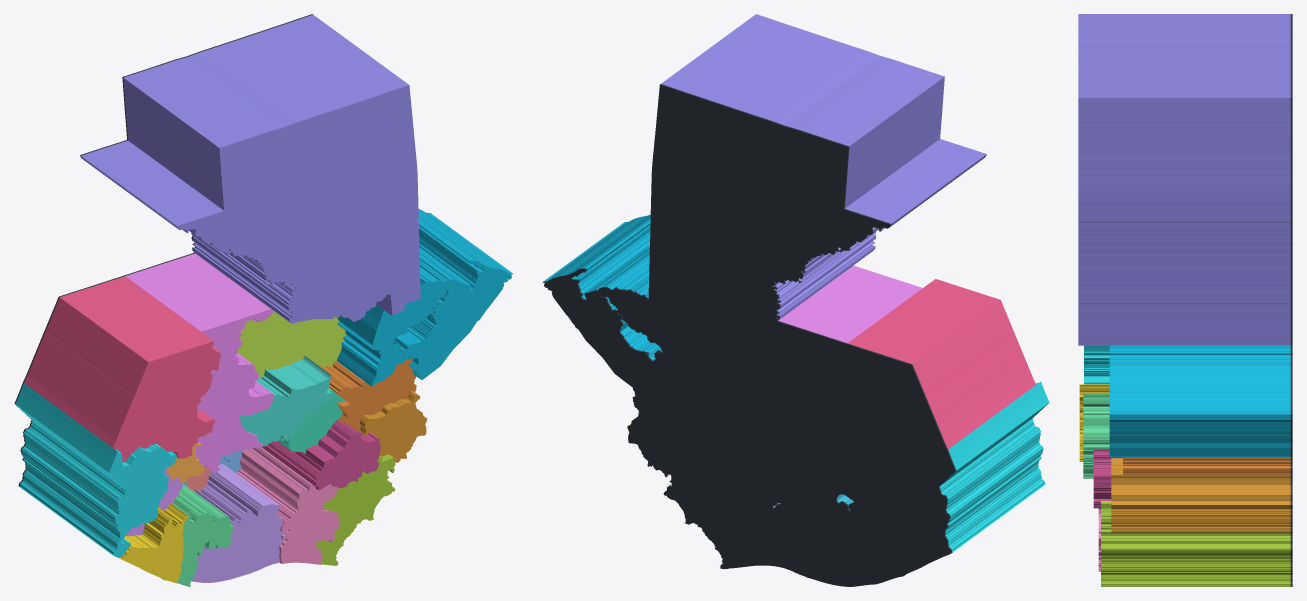
Rendered from modelo_3d_tasa_retorno_migratorio_por_10k_multicolor.glb.
3 views of the same model, side by side, from view 1: azimuth 30°, elevation 25°; view 2: azimuth 150°, elevation 25°; view 3: azimuth 270°, elevation 25° (orthographic). The views are drawn at different scales.
Parts seen in each view (by area): view 1: depto_17_Petén, depto_13_Huehuetenango, depto_12_San_Marcos, depto_18_Izabal, depto_14_Quiché, depto_05_Escuintla, depto_06_Santa_Rosa, depto_16_Alta_Verapaz, depto_15_Baja_Verapaz, depto_21_Jalapa, depto_22_Jutiapa, depto_19_Zacapa (+6 smaller); view 2: base_guatemala, depto_17_Petén, depto_13_Huehuetenango, depto_12_San_Marcos, depto_14_Quiché, depto_18_Izabal; view 3: depto_17_Petén, depto_18_Izabal, depto_22_Jutiapa, depto_20_Chiquimula, depto_19_Zacapa, depto_10_Suchitepéquez, base_guatemala, depto_21_Jalapa, depto_12_San_Marcos, depto_11_Retalhuleu.
Boxes of the visible parts, x1,y1,x2,y2 form: depto_17_Petén: (81, 14, 420, 323); depto_13_Huehuetenango: (24, 276, 221, 462); depto_12_San_Marcos: (15, 383, 176, 558); depto_18_Izabal: (337, 210, 513, 386); depto_14_Quiché: (125, 253, 274, 472); depto_05_Escuintla: (191, 464, 288, 582); depto_06_Santa_Rosa: (236, 448, 340, 564); depto_16_Alta_Verapaz: (237, 310, 346, 378); depto_15_Baja_Verapaz: (240, 356, 334, 446); depto_21_Jalapa: (262, 419, 380, 490); depto_22_Jutiapa: (316, 454, 395, 565); depto_19_Zacapa: (319, 358, 416, 431); base_guatemala: (543, 84, 956, 586); depto_17_Petén: (661, 14, 986, 320); depto_13_Huehuetenango: (848, 279, 1035, 448); depto_12_San_Marcos: (939, 381, 1049, 551); depto_14_Quiché: (778, 265, 922, 343); depto_18_Izabal: (544, 215, 661, 360); depto_17_Petén: (1078, 14, 1290, 345); depto_18_Izabal: (1109, 345, 1290, 457); depto_22_Jutiapa: (1101, 501, 1290, 586); depto_20_Chiquimula: (1111, 458, 1290, 532); depto_19_Zacapa: (1123, 457, 1290, 474); depto_10_Suchitepéquez: (1083, 394, 1109, 478); base_guatemala: (1290, 14, 1292, 586); depto_21_Jalapa: (1093, 449, 1122, 508); depto_12_San_Marcos: (1084, 345, 1109, 384); depto_11_Retalhuleu: (1079, 384, 1109, 461).
Size of the model in its own units: 150 by 163 by 60.6.
